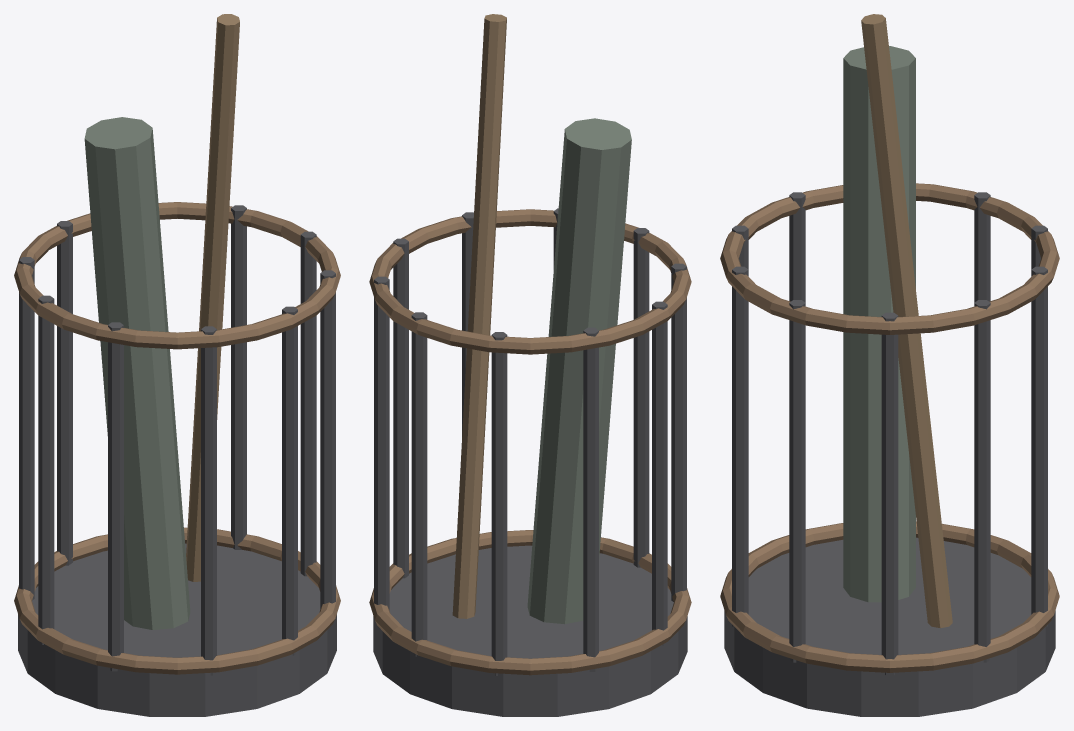
3 renders of one model, left to right at view 1: azimuth 30°, elevation 25°; view 2: azimuth 150°, elevation 25°; view 3: azimuth 270°, elevation 25°, orthographic. The views are drawn at different scales.
Visible parts, largest first — view 1: umbrellaStand; view 2: umbrellaStand; view 3: umbrellaStand.
Boxes of the visible parts, x1=… form: umbrellaStand: x1=14, y1=14, x2=340, y2=716; umbrellaStand: x1=369, y1=14, x2=691, y2=716; umbrellaStand: x1=720, y1=14, x2=1059, y2=716.
Bounding box in the file's own units: 0.328 × 0.7188 × 0.328.
